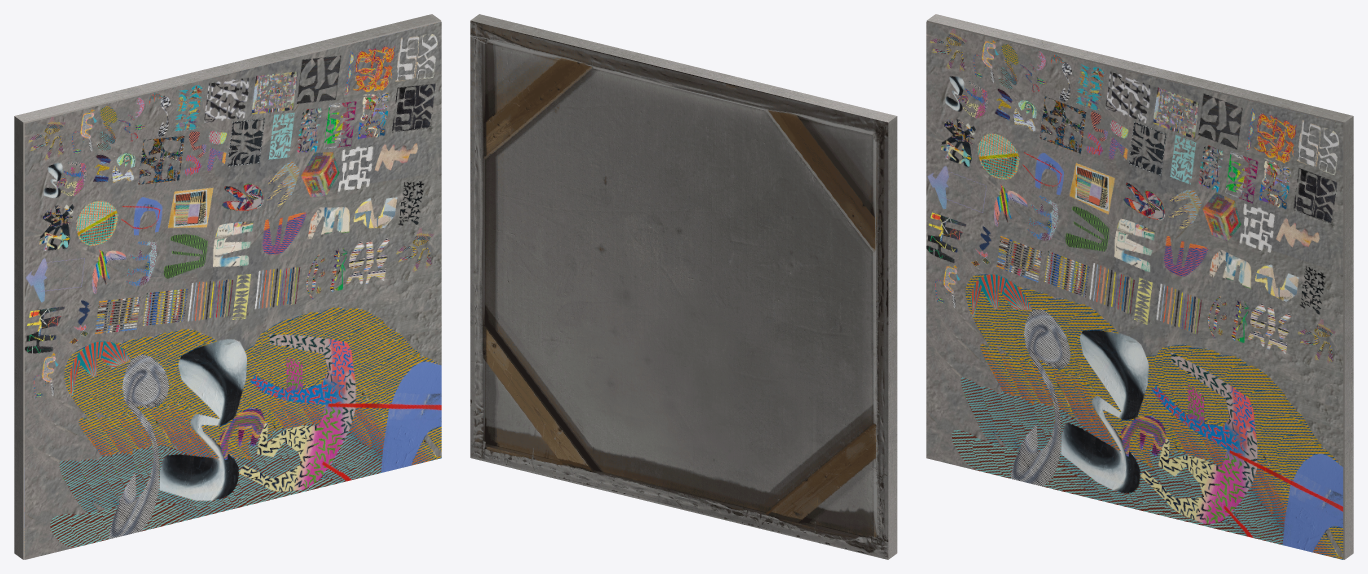
File: pondering-c0173039.glb
3 renders of one model, left to right at view 1: azimuth 30°, elevation 25°; view 2: azimuth 150°, elevation 25°; view 3: azimuth 330°, elevation 25°, orthographic.
Visible parts, largest first — view 1: Canvas, stretcher; view 2: stretcher; view 3: Canvas, stretcher.
Part boxes in pixels (x1,y1,x2,y2): Canvas: (24,22,441,559); stretcher: (14,14,441,559); stretcher: (470,14,897,559); Canvas: (926,22,1343,559); stretcher: (926,14,1353,559).
Bounding box in the file's own units: 3.04 × 3.04 × 0.1252.
3 materials, 3 textured.
